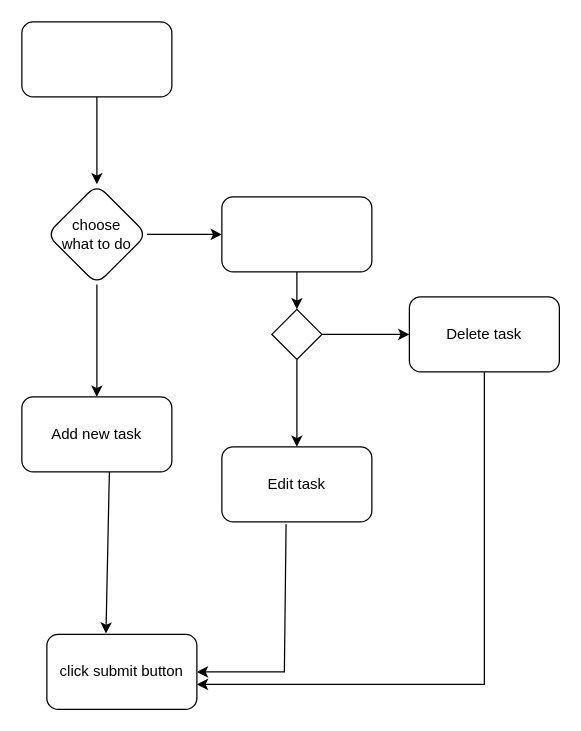
Some shapes in this 581 by 731 pixel diagram are drawn without their labels. Each missing label, with the centre of its shape:
click existing task: the point at 296,234
Enter website: the point at 96,59
